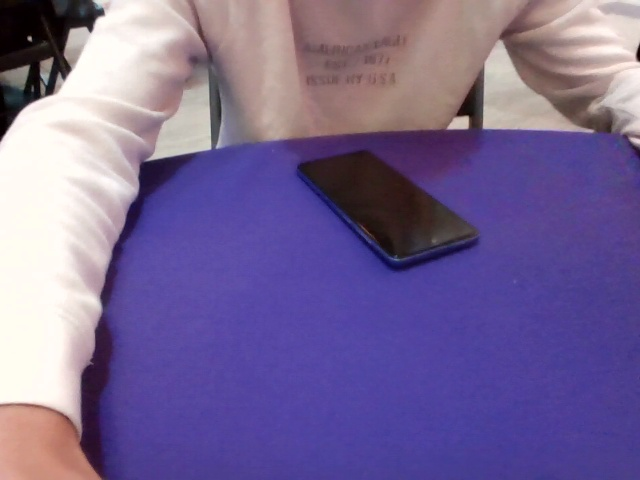celular: (296, 149, 482, 270)
